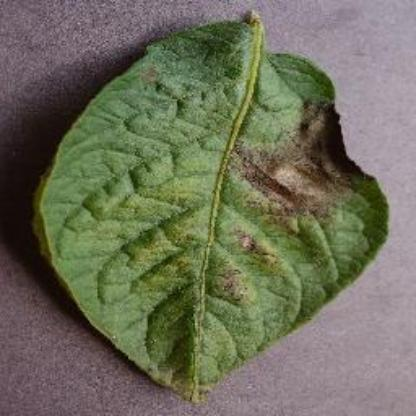Late-Blight: (16, 8, 406, 408)
